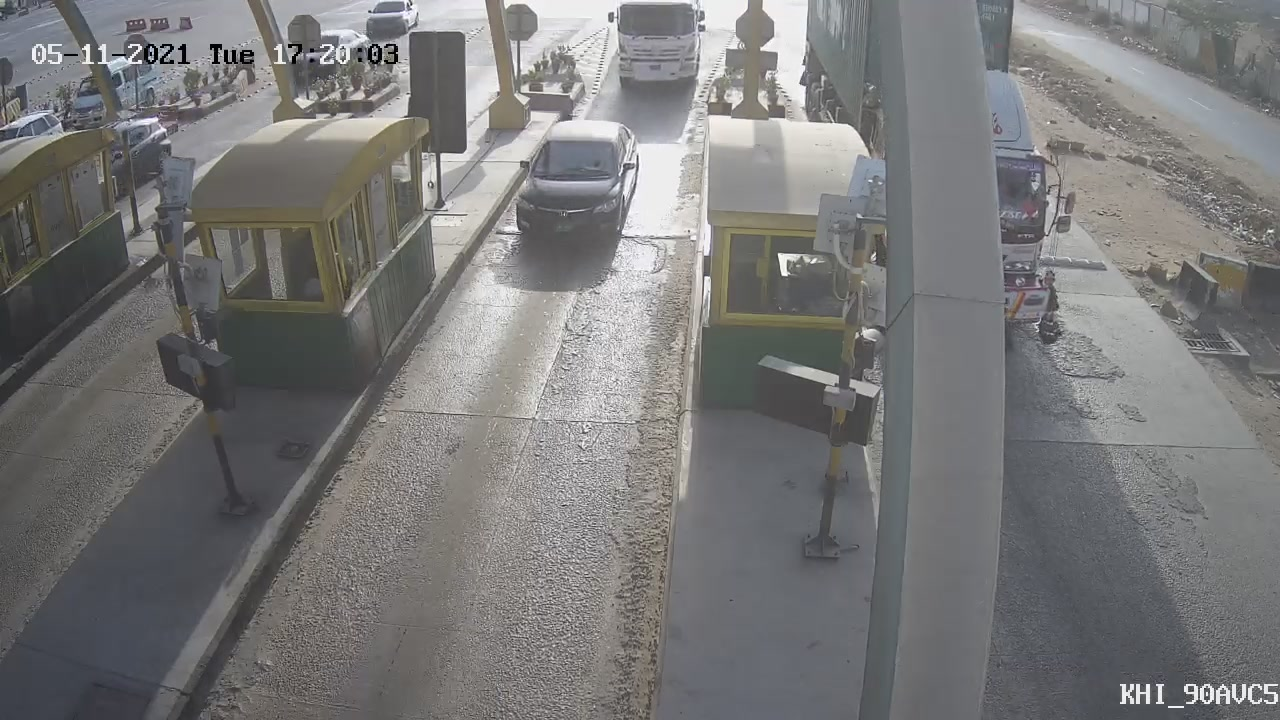F1: (492, 101, 657, 266)
